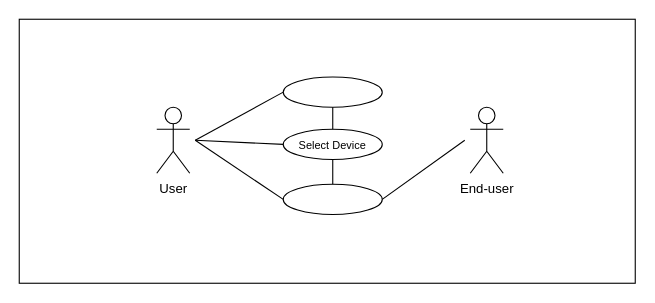
Some shapes in this 655 by 303 pixel diagram are drawn without their labels. Here are the shapes that lost their labels. From the top down, the centre of each, then its label:
the point at 332,91: Create Group
the point at 332,199: Send Notification
